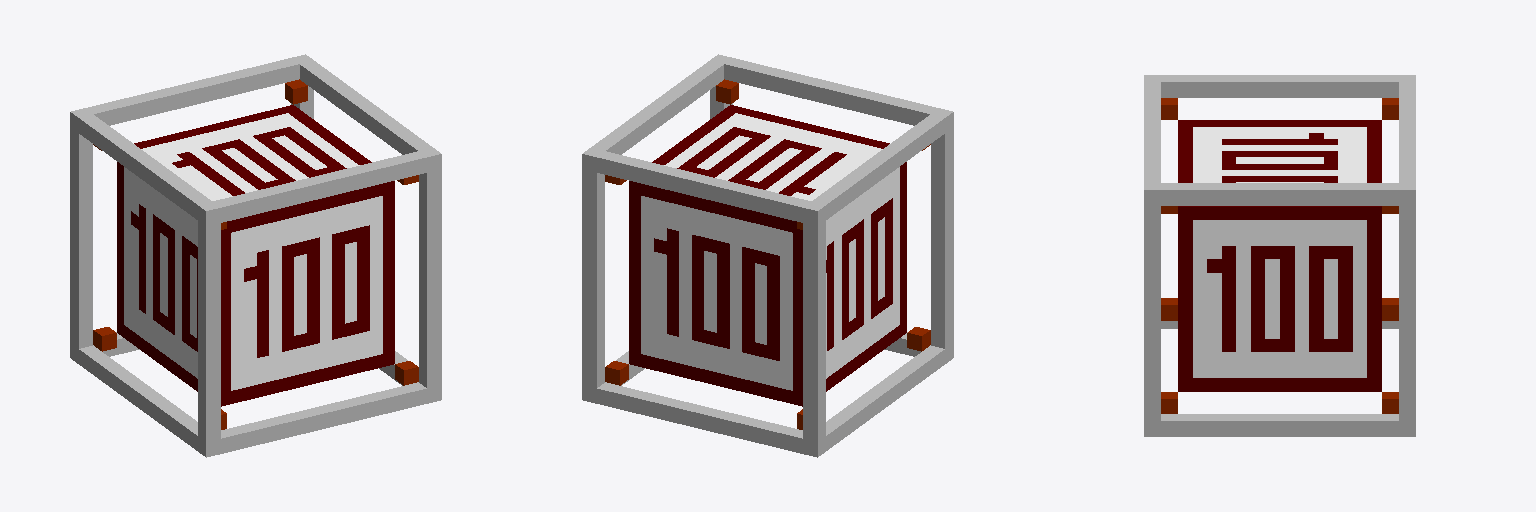
The picture shows the model from 3 angles: view 1: azimuth 30°, elevation 25°; view 2: azimuth 150°, elevation 25°; view 3: azimuth 270°, elevation 25°; orthographic projection.
Parts seen in each view (by area): view 1: dice, cube; view 2: dice, cube; view 3: dice, cube.
Part boxes in pixels (x1,y1,x2,y2): dice: (117,105,394,406); cube: (70,54,441,457); dice: (629,105,906,406); cube: (582,54,953,457); dice: (1178,120,1381,391); cube: (1144,75,1415,436).
Size of the model in its own units: 1 by 1 by 1.
3 materials, 2 textured.